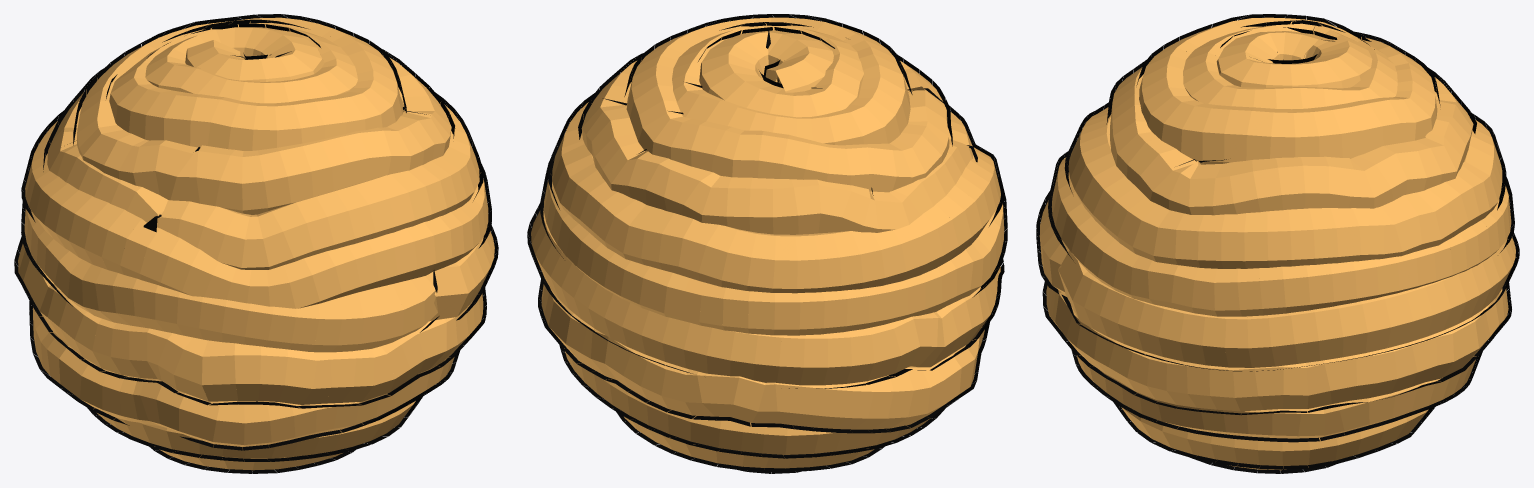
File: Enemy2.fbx
3 views of the same model, side by side, from view 1: azimuth 30°, elevation 25°; view 2: azimuth 150°, elevation 25°; view 3: azimuth 270°, elevation 25° (orthographic).
Visible parts, largest first — view 1: Cylinder.001; view 2: Cylinder.001; view 3: Cylinder.001.
Boxes of the visible parts, x1,y1,x2,y2 form: Cylinder.001: [14, 14, 498, 473]; Cylinder.001: [527, 14, 1007, 473]; Cylinder.001: [1036, 14, 1519, 473].
Bounding box in the file's own units: 252 × 237 × 255.
